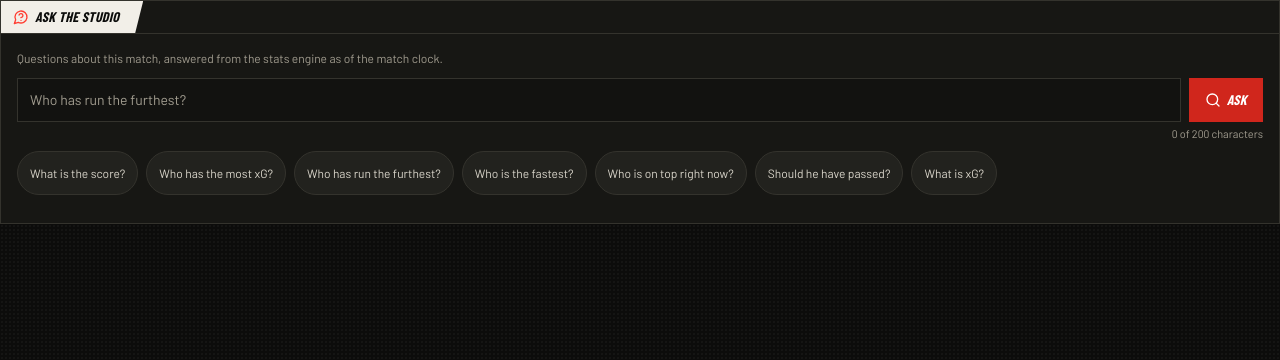
Scenario: R2-01 "Should he have passed?" before the first one › after the moment, links to its replay (and no jump offer)
Click the button "Should he have passed?": (829, 172) [755, 150, 904, 194]
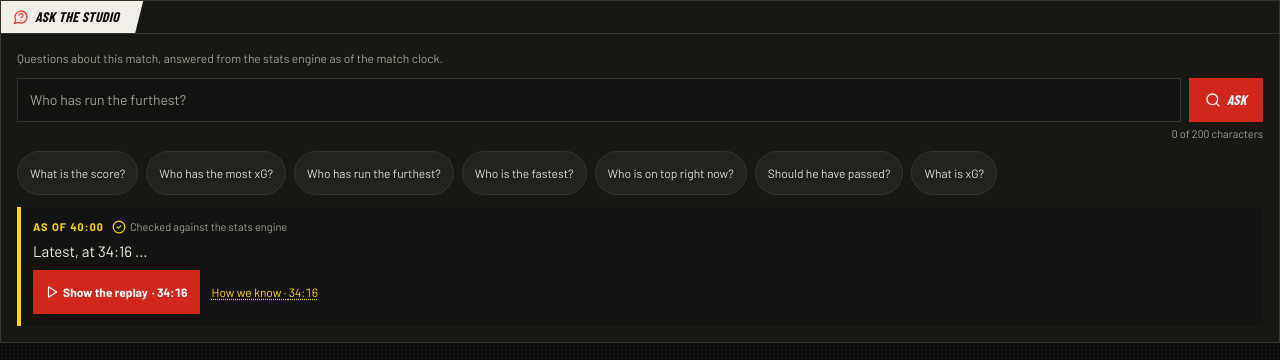
Expected: the element with test id "ask-answer" is shown, [17, 206, 1263, 326]
Expected: the button "Show the replay · 34:16" is shown, [33, 270, 200, 314]
